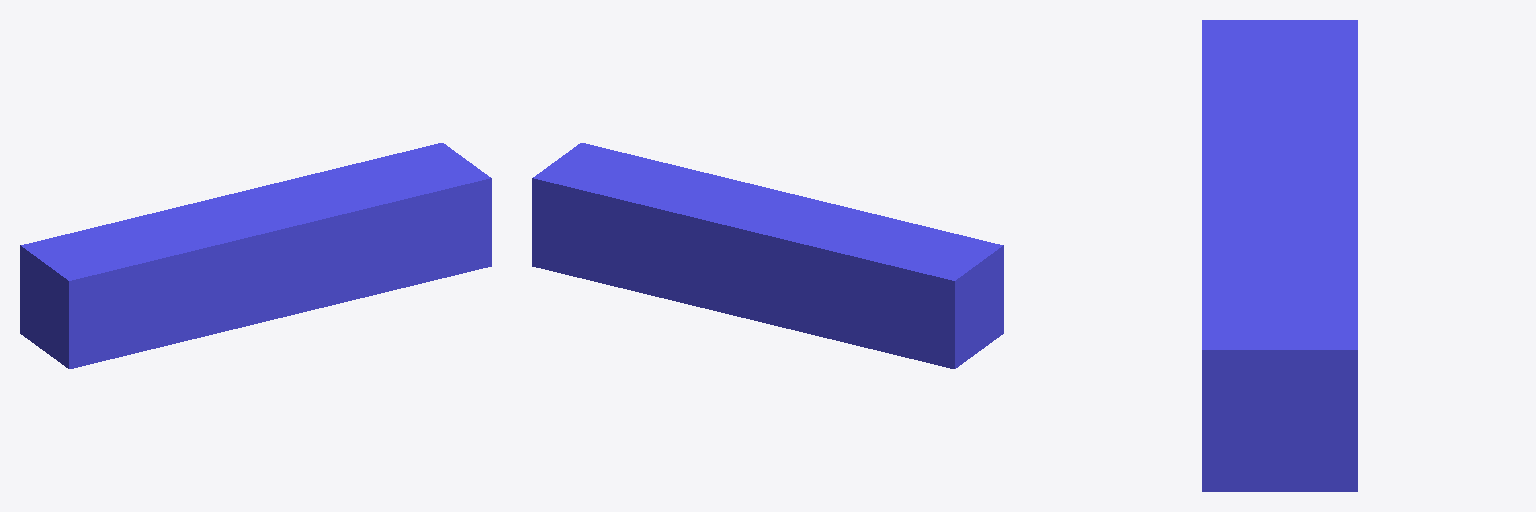
robot.urdf — block:
<robot name="block">
  <link name="block">
    <visual>
      <origin xyz="0 0 0"/>
      <geometry>
        <box size="0.3 0.060 0.060" />
      </geometry>
      <material name="red">
        <color rgba="0.4 0.4 1.0 1.0"/>
      </material>
    </visual>

    <collision>
      <origin xyz="0 0 0"/>
      <geometry>
        <box size="0.3 0.060 0.060" />
      </geometry>
    </collision>
<contact>
      <lateral_friction value="1.0"/>
      <rolling_friction value="0.0001"/>
      <inertia_scaling value="3.0"/>
    </contact>
    <inertial>
      <origin rpy="0 0 0" xyz="0 0 0"/>
       <mass value="0.1"/>
       <inertia ixx="1" ixy="0" ixz="0" iyy="1" iyz="0" izz="1"/>
    </inertial>
  </link>


</robot>

--- What the picture shows (computed from the rendered views, not written in the file) ---
The picture shows the robot from 3 angles, left to right: view 1: azimuth 30°, elevation 25°; view 2: azimuth 150°, elevation 25°; view 3: azimuth 270°, elevation 25°; orthographic projection.
Model block with 1 links and 0 joints (none), rooted at block, posed every joint at zero.
Visible links, largest first — view 1: block; view 2: block; view 3: block.
Link boxes in pixels (x1=…): block: x1=20, y1=143, x2=491, y2=368; block: x1=532, y1=143, x2=1003, y2=368; block: x1=1202, y1=20, x2=1357, y2=491.
Bounding box of the posed robot: 0.3 × 0.06 × 0.06 m (x, y, z).
Geometry: primitives only (box / cylinder / sphere), no mesh files.